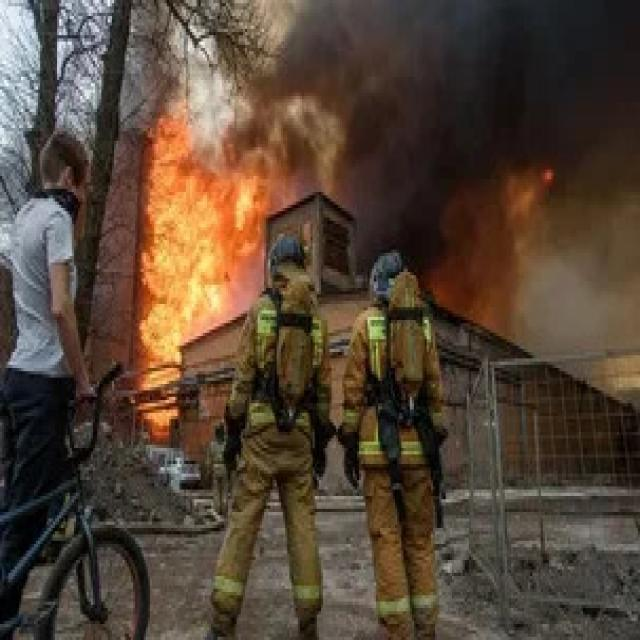Fire: (136, 106, 276, 440)
Smoke: (120, 0, 640, 400)
